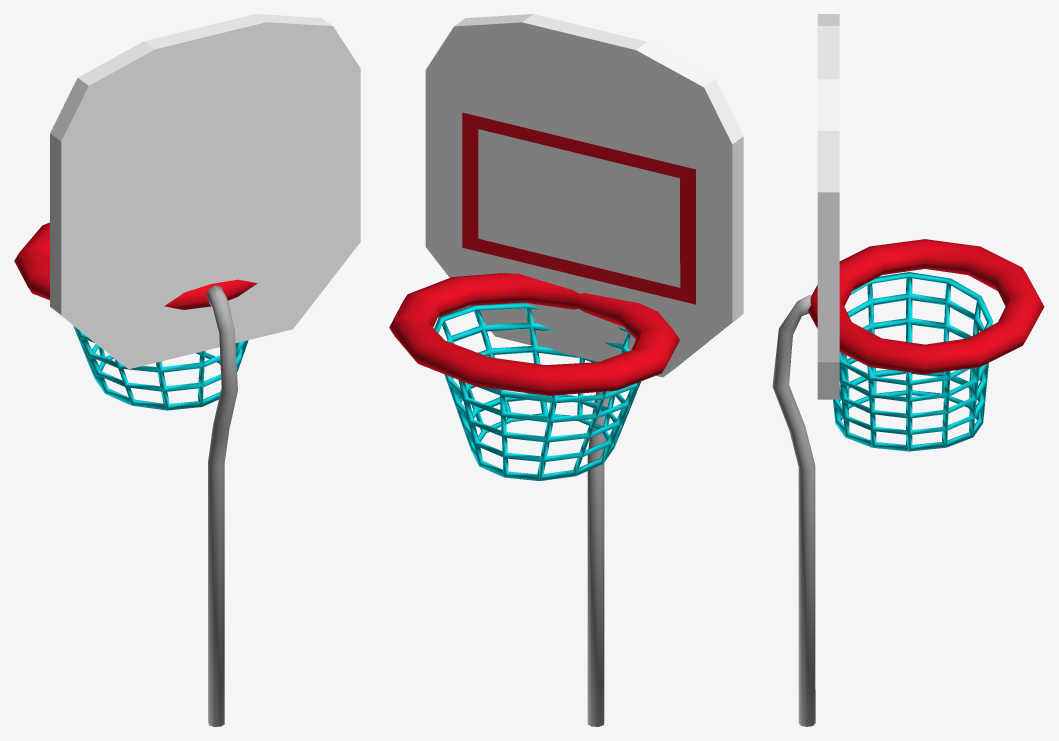
The model's file is canasta.fbx.
3 renders of one model, left to right at view 1: azimuth 30°, elevation 25°; view 2: azimuth 150°, elevation 25°; view 3: azimuth 270°, elevation 25°, orthographic. The views are drawn at different scales.
Visible parts, largest first — view 1: Cylinder; view 2: Cylinder; view 3: Cylinder.
Part boxes in pixels (left/top/right/bottom): Cylinder: left=14, top=14, right=360, bottom=726; Cylinder: left=389, top=14, right=743, bottom=726; Cylinder: left=772, top=14, right=1044, bottom=726.
Bounding box in the file's own units: 0.4051 × 0.8834 × 0.3247.
